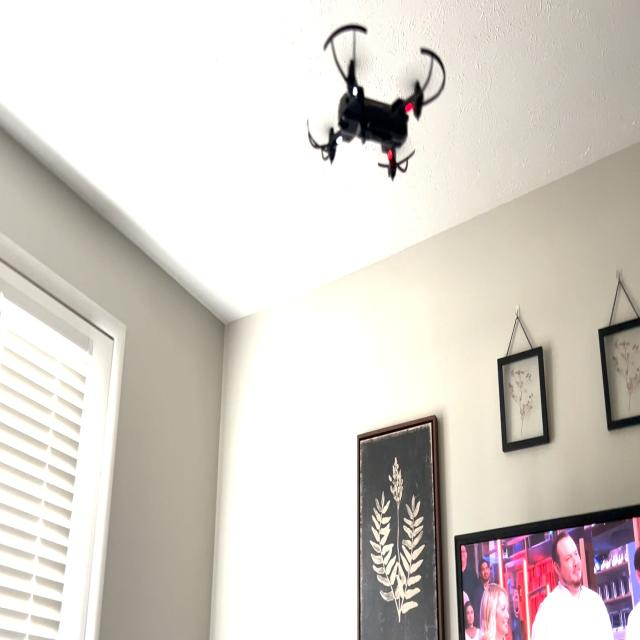drone: (294, 12, 450, 194)
